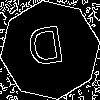D: (25, 25, 68, 76)
